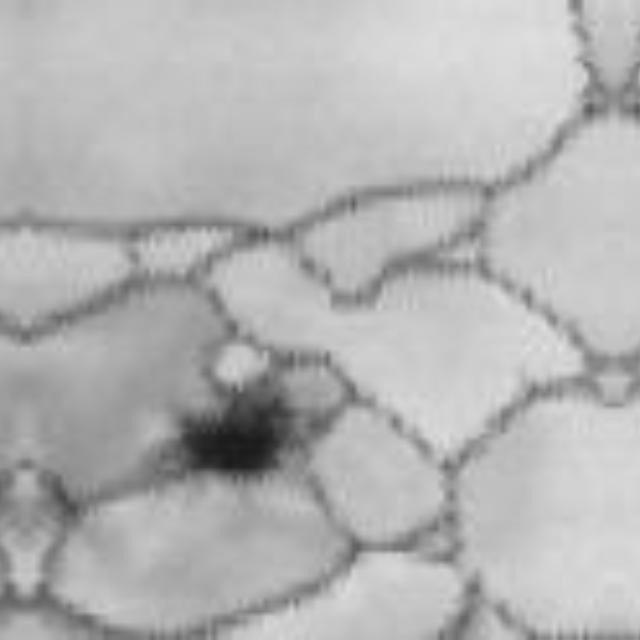good_void: (169, 385, 292, 482)
